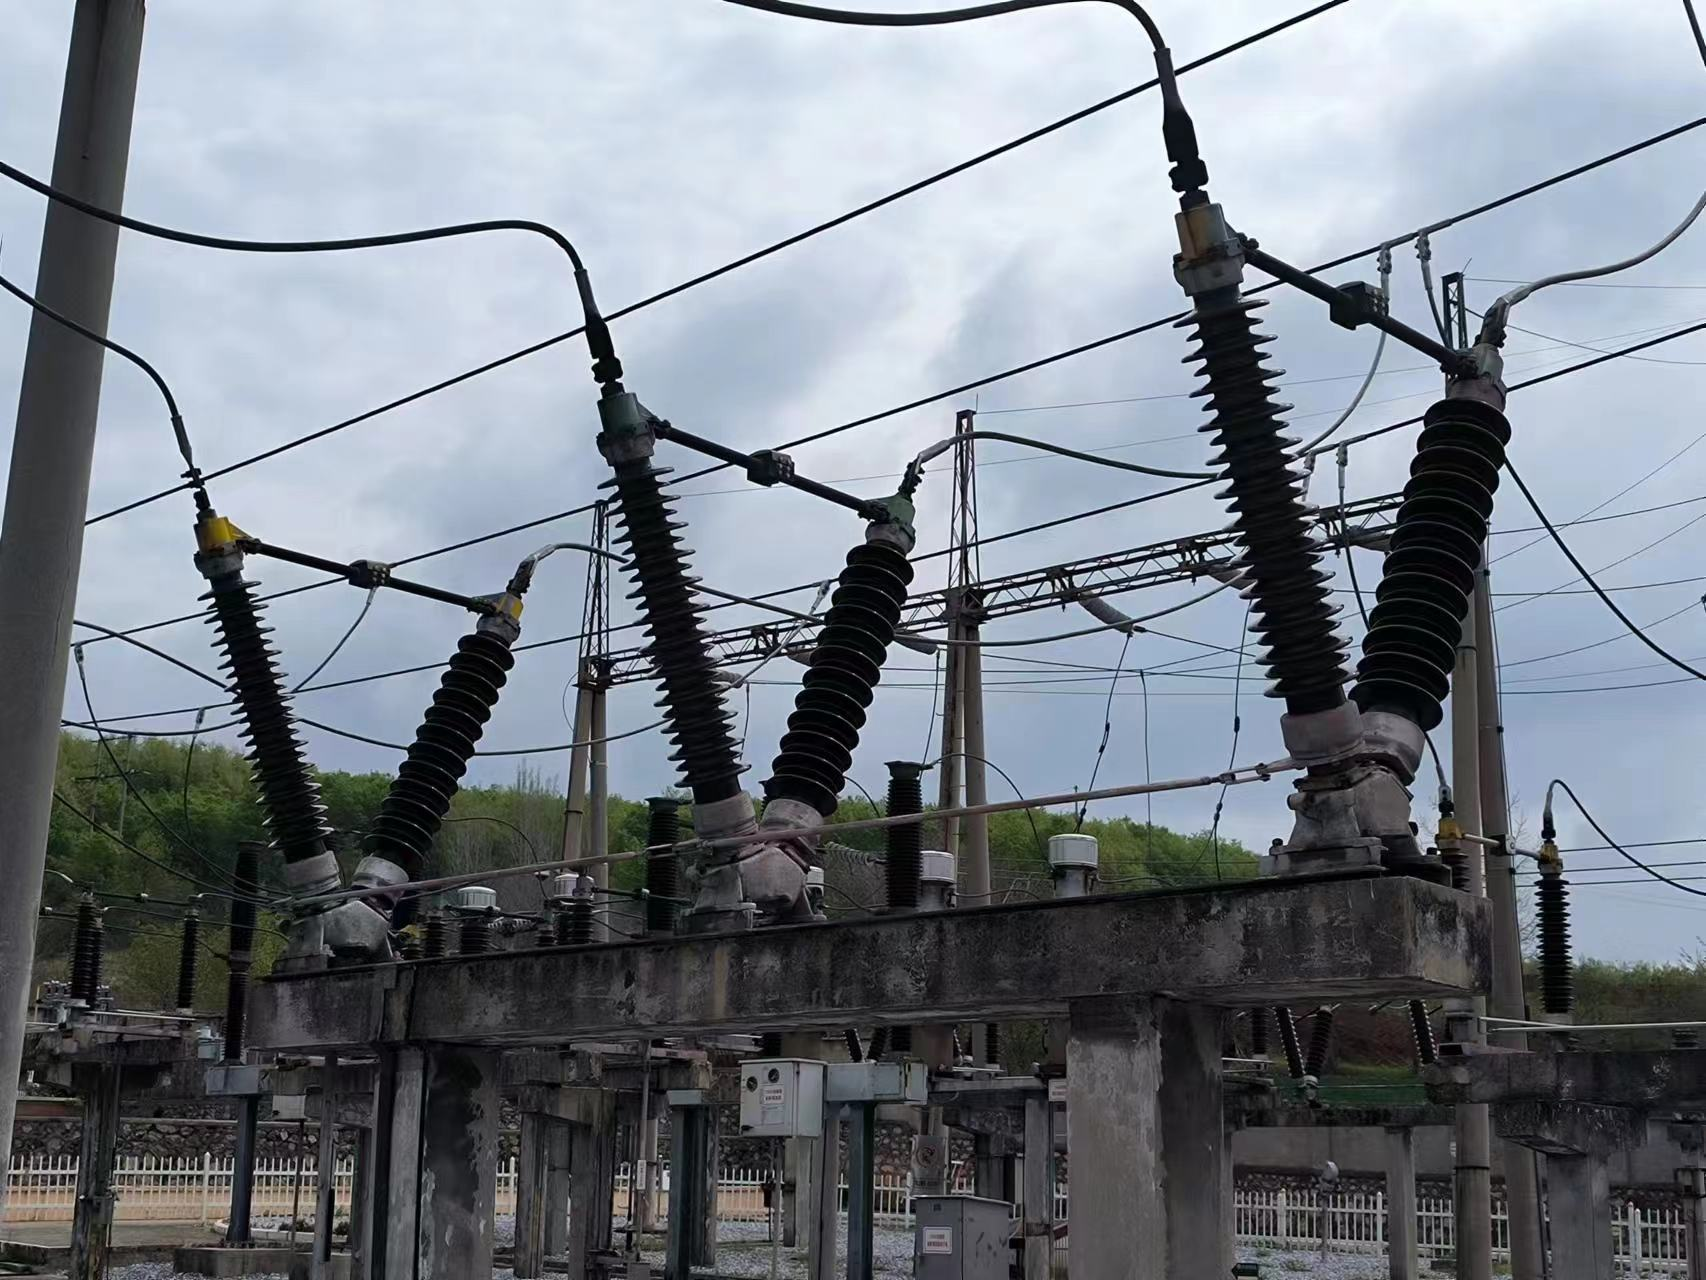Isolating switch: (1163, 203, 1527, 823), (587, 374, 925, 873), (183, 503, 536, 895)
